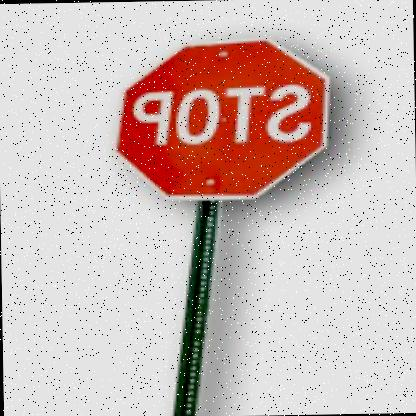stop: (113, 34, 336, 200)
